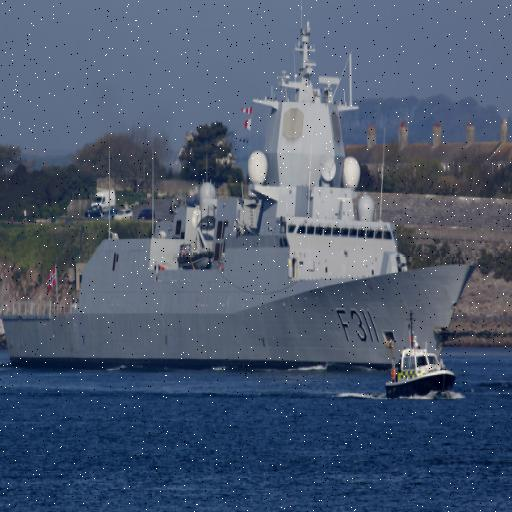Fragata: (1, 18, 486, 377)
